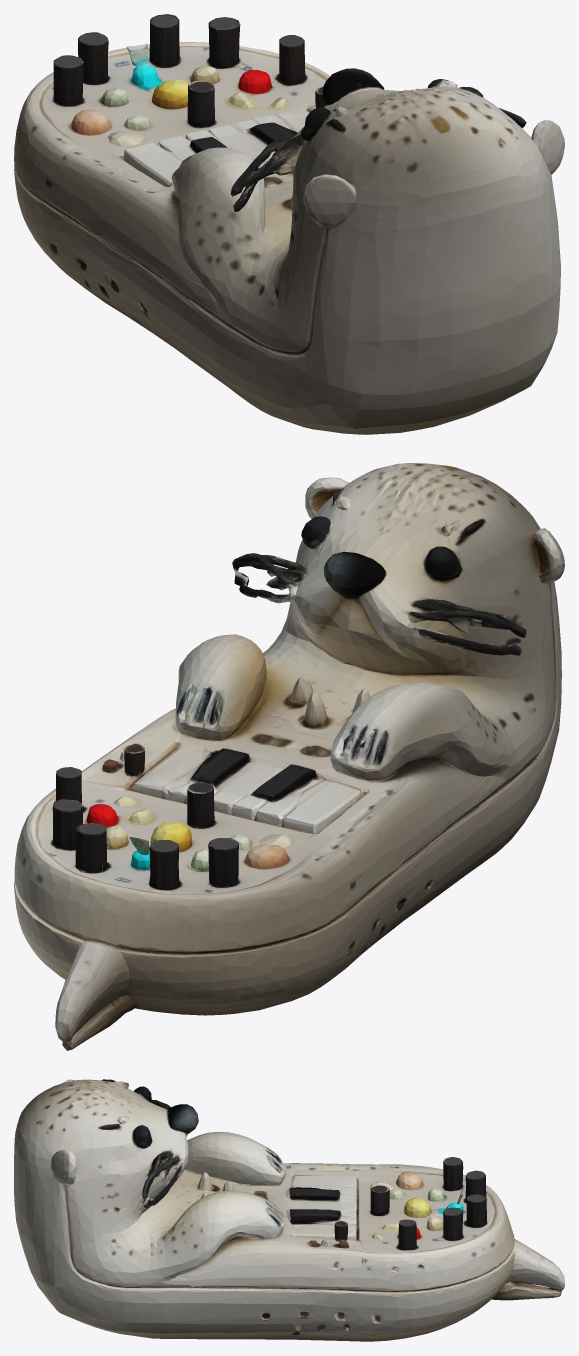
Rendered from otteri-synth-generated.glb.
3 views of the same model, one above another, from view 1: azimuth 30°, elevation 25°; view 2: azimuth 150°, elevation 25°; view 3: azimuth 270°, elevation 25° (orthographic). The views are drawn at different scales.
Parts seen in each view (by area): view 1: world; view 2: world; view 3: world.
Boxes of the visible parts, box(x1,y1,x2,y2) form: world: box(14, 14, 564, 434); world: box(14, 463, 564, 1050); world: box(14, 1079, 564, 1341).
Size of the model in its own units: 0.4281 by 0.4479 by 1.
1 material, 1 textured.
